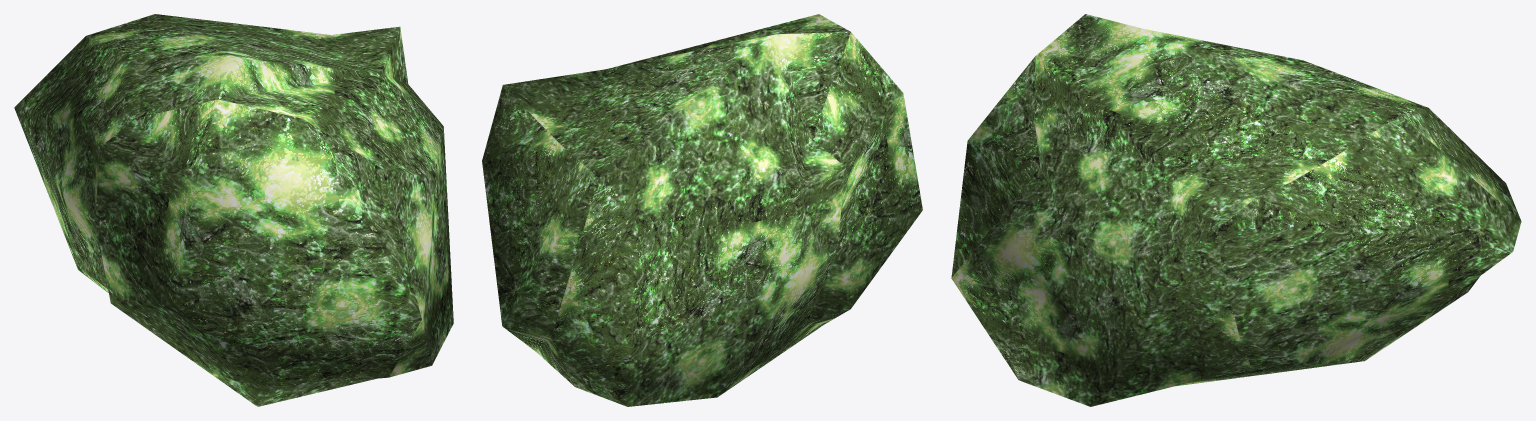
Rendered from asteroid_acid_radial_s02_l1.fbx.
3 renders of one model, left to right at view 1: azimuth 30°, elevation 25°; view 2: azimuth 150°, elevation 25°; view 3: azimuth 270°, elevation 25°, orthographic. The views are drawn at different scales.
Parts seen in each view (by area): view 1: mesh_node; view 2: mesh_node; view 3: mesh_node.
Part boxes in pixels (x1,y1,x2,y2): mesh_node: [14, 14, 453, 406]; mesh_node: [482, 14, 922, 406]; mesh_node: [951, 14, 1521, 406].
Bounding box in the file's own units: 4.38 × 4.08 × 6.61.
